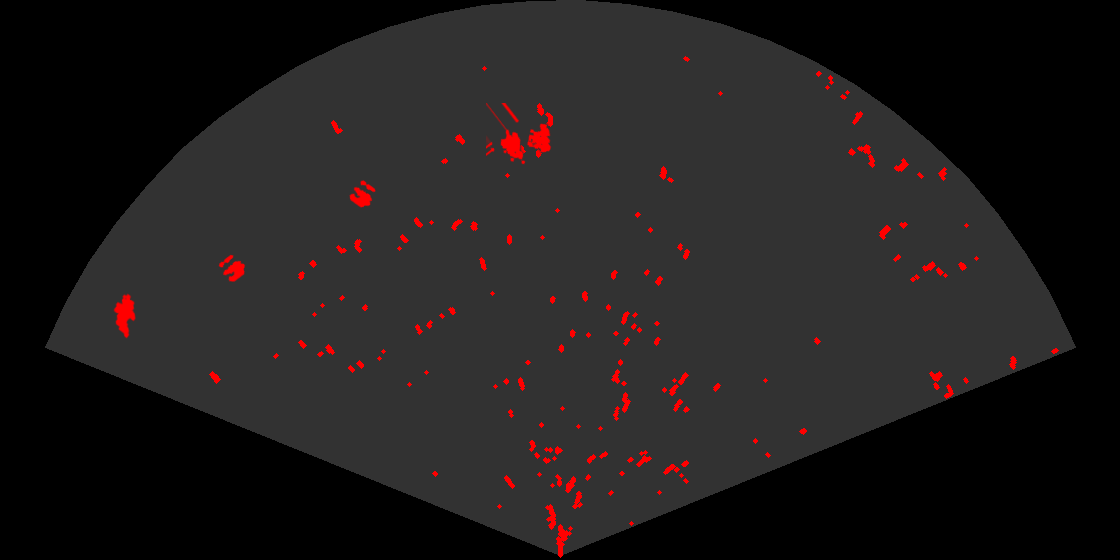AUV: (112, 292, 137, 340)
ball: (217, 253, 247, 283), (348, 179, 377, 209)
cage: (486, 103, 553, 166)
